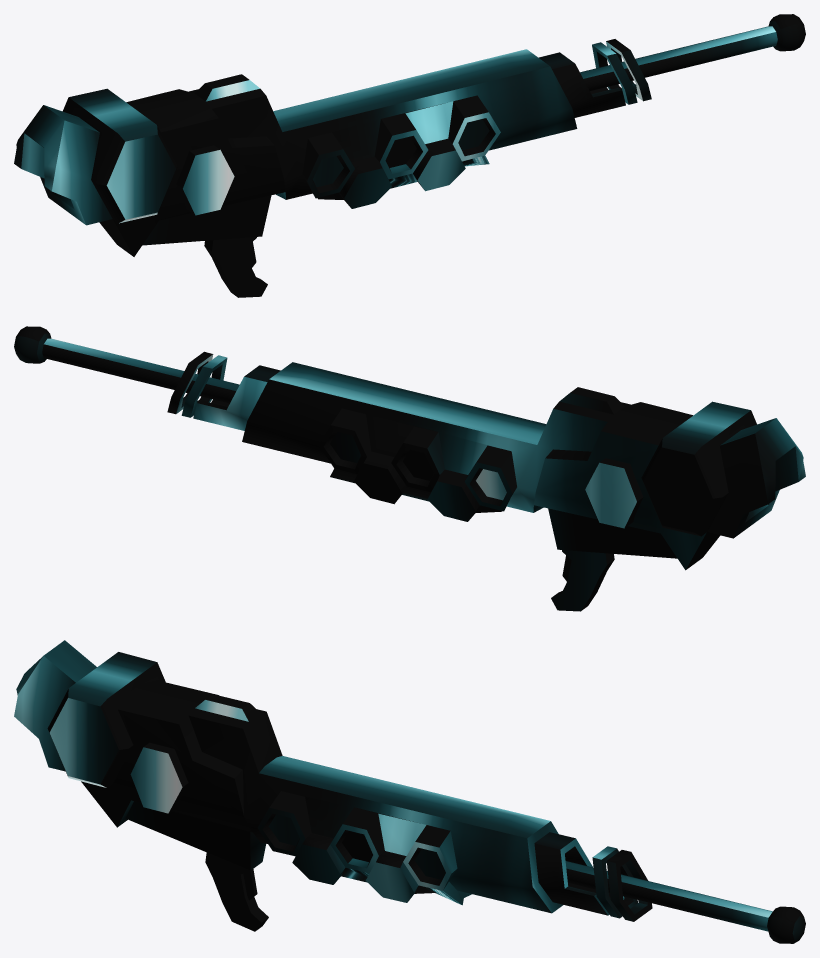
3 renders of one model, top to bottom at view 1: azimuth 30°, elevation 25°; view 2: azimuth 150°, elevation 25°; view 3: azimuth 330°, elevation 25°, orthographic.
Parts seen in each view (by area): view 1: eb; view 2: eb; view 3: eb.
Part boxes in pixels (left/top/right/bottom): eb: left=14, top=14, right=805, bottom=297; eb: left=14, top=326, right=805, bottom=611; eb: left=14, top=640, right=805, bottom=943.
Size of the model in its own units: 41.59 by 11.92 by 5.38.
1 material, 1 textured.
